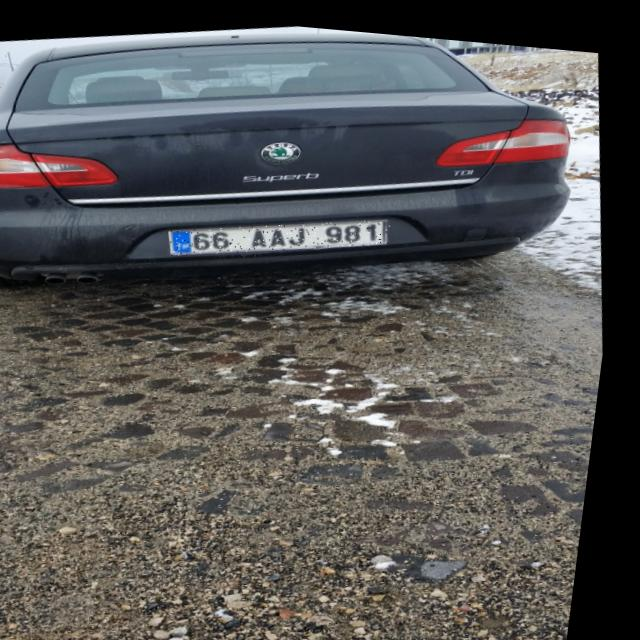license_plate: (173, 197, 398, 267)
